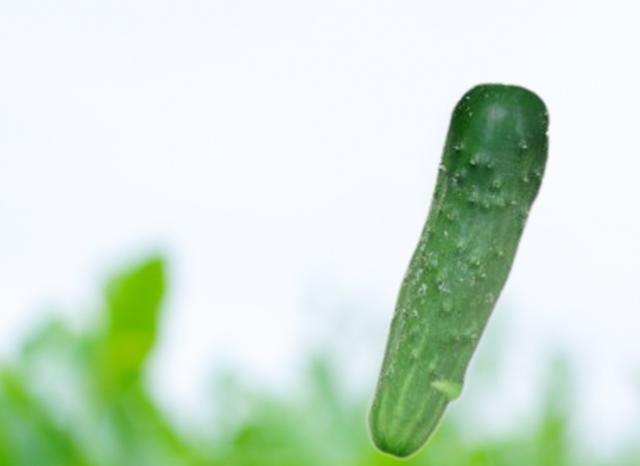cucumber: (363, 80, 552, 460)
